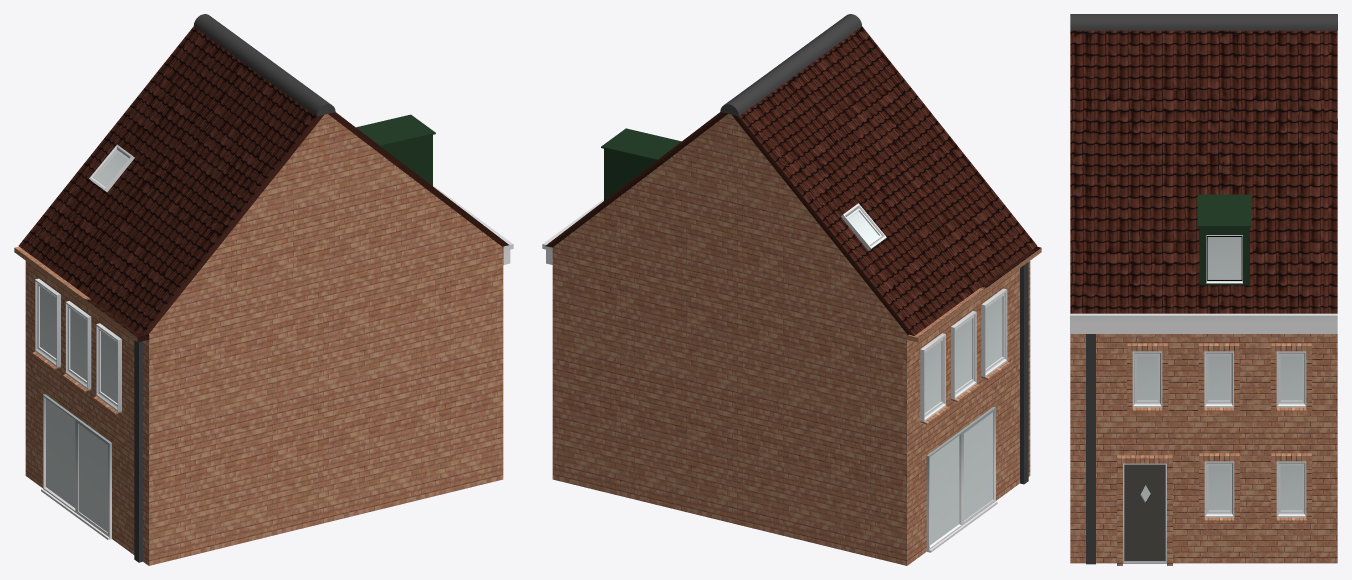
File: It_Heafek_12.fbx
3 views of the same model, side by side, from view 1: azimuth 30°, elevation 25°; view 2: azimuth 150°, elevation 25°; view 3: azimuth 270°, elevation 25° (orthographic). The views are drawn at different scales.
Parts seen in each view (by area): view 1: It_Heafek_12; view 2: It_Heafek_12; view 3: It_Heafek_12.
Part boxes in pixels (x1,y1,x2,y2): It_Heafek_12: (14, 14, 513, 565); It_Heafek_12: (542, 14, 1041, 565); It_Heafek_12: (1070, 14, 1337, 565).
Bounding box in the file's own units: 1005 × 1069 × 571.
